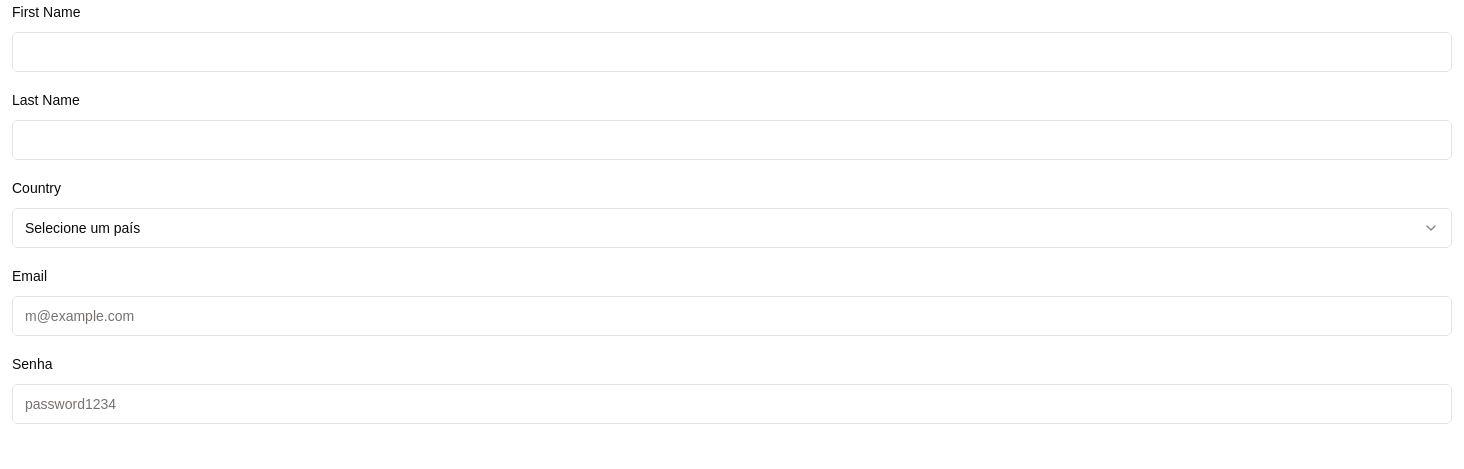
it: SignupForm › with edituserSchema › displays error message for invalid email
Type "invalid-email" into the field labelled "Email" at coordinates (732, 316), box [12,296,1452,336]
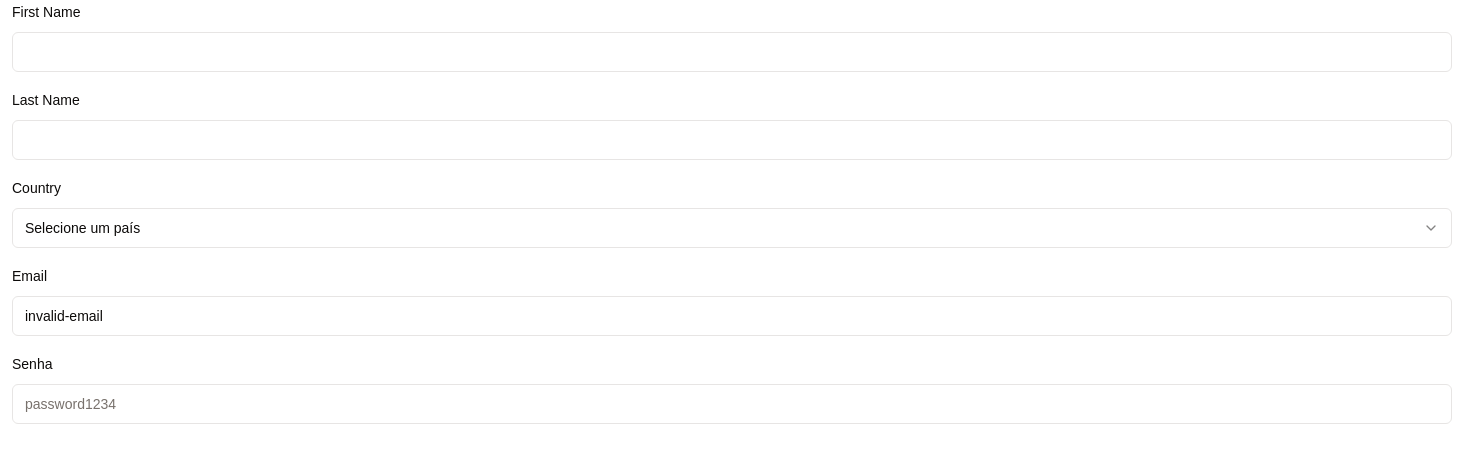
Submit the form
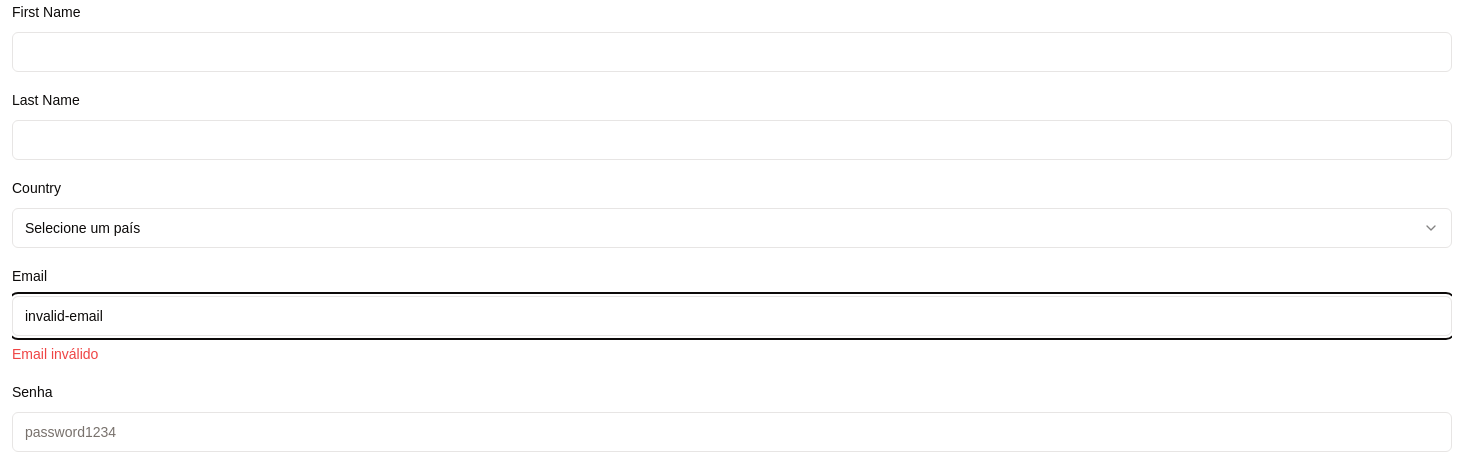
Result: the text "Email inválido" is shown at [12,346,98,362]
